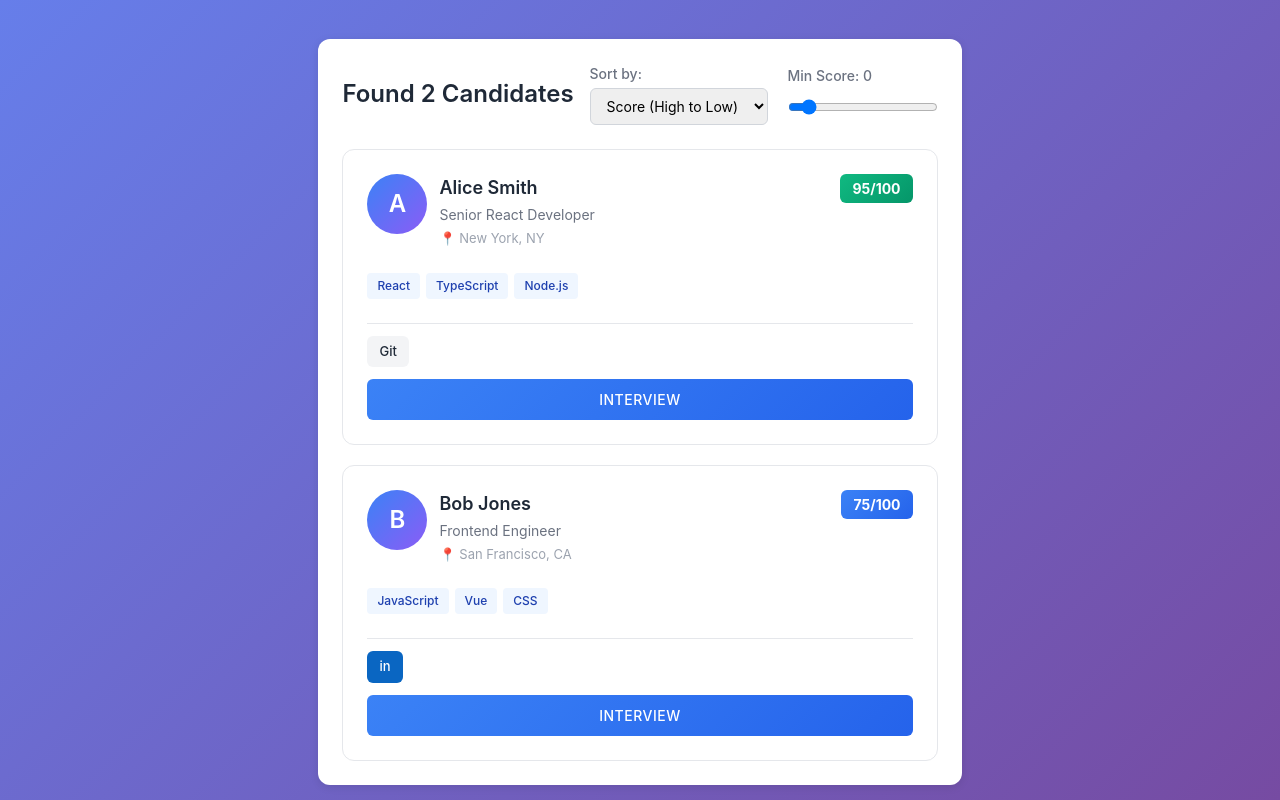
Test case: CandidateResults › displays "no results" message when filter is too strict
The width and height of the screenshot is (1280, 800).
Set the slider labelled "Min Score: 0" to "100". click: x=930, y=107
box: [788,90,938,124]
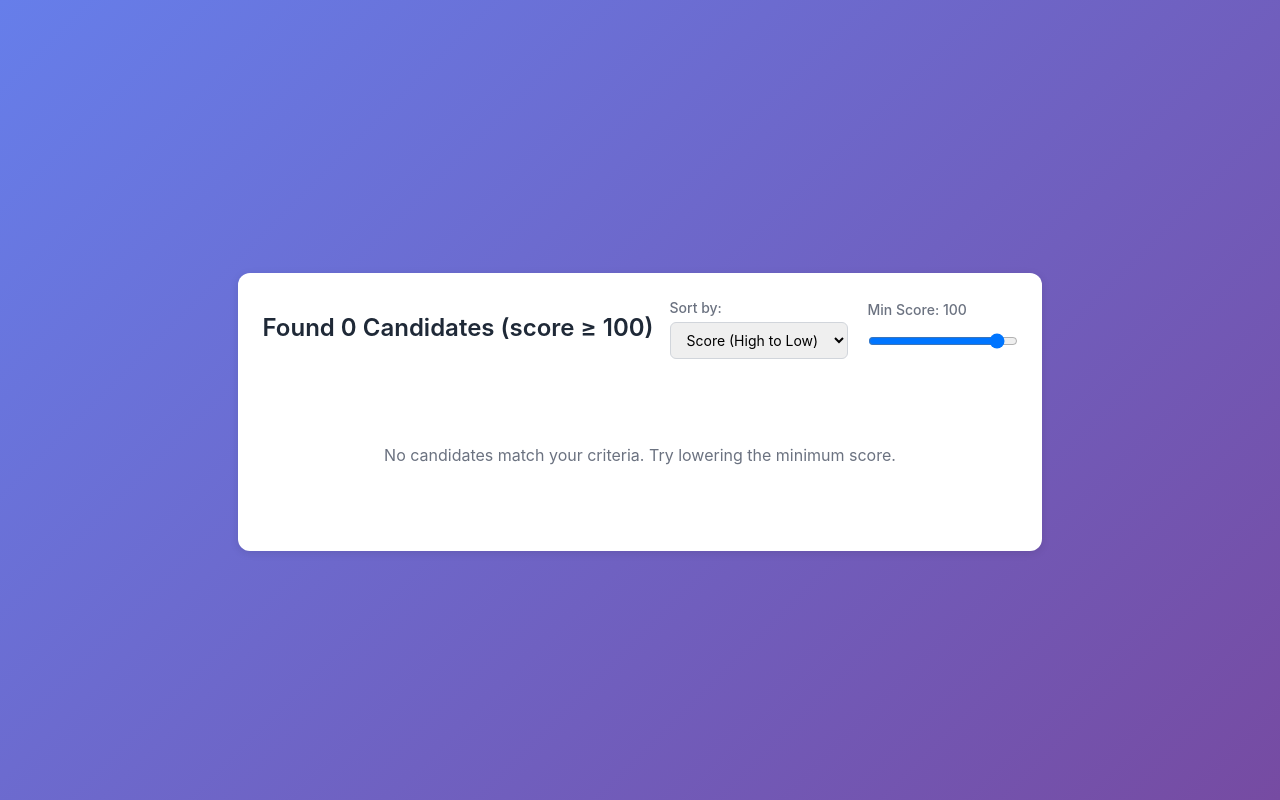
Check: the text "No candidates match your criteria" is shown, box [384,445,896,465]
